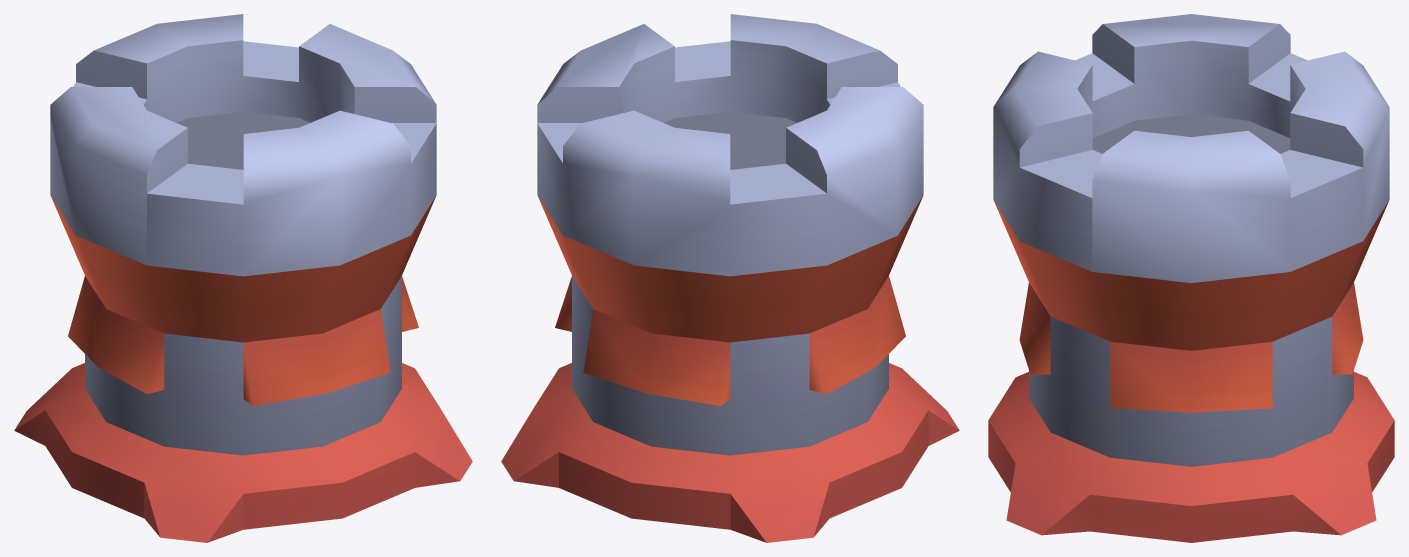
Rendered from kenney-tower-defense-tower-round-build-b.glb.
3 views of the same model, side by side, from view 1: azimuth 30°, elevation 25°; view 2: azimuth 150°, elevation 25°; view 3: azimuth 270°, elevation 25° (orthographic). The views are drawn at different scales.
Parts seen in each view (by area): view 1: tower-round-build-b; view 2: tower-round-build-b; view 3: tower-round-build-b.
Part boxes in pixels (<box>): tower-round-build-b: <box>14,14,472,542</box>; tower-round-build-b: <box>501,14,959,542</box>; tower-round-build-b: <box>988,14,1394,542</box>.
Bounding box in the file's own units: 1 × 1 × 1.
Materials: 1 (1 with a texture image).
